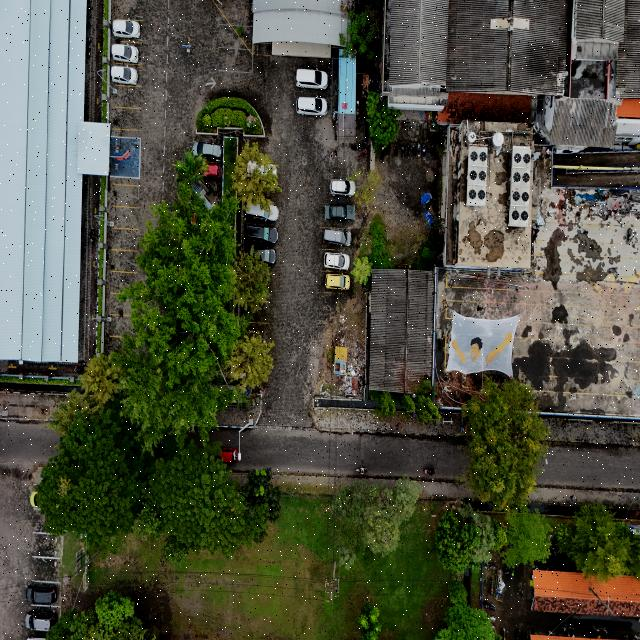Tree: (466, 374, 544, 528), (224, 328, 278, 399), (436, 502, 482, 574), (362, 90, 404, 152), (96, 590, 136, 630), (352, 254, 372, 288)
